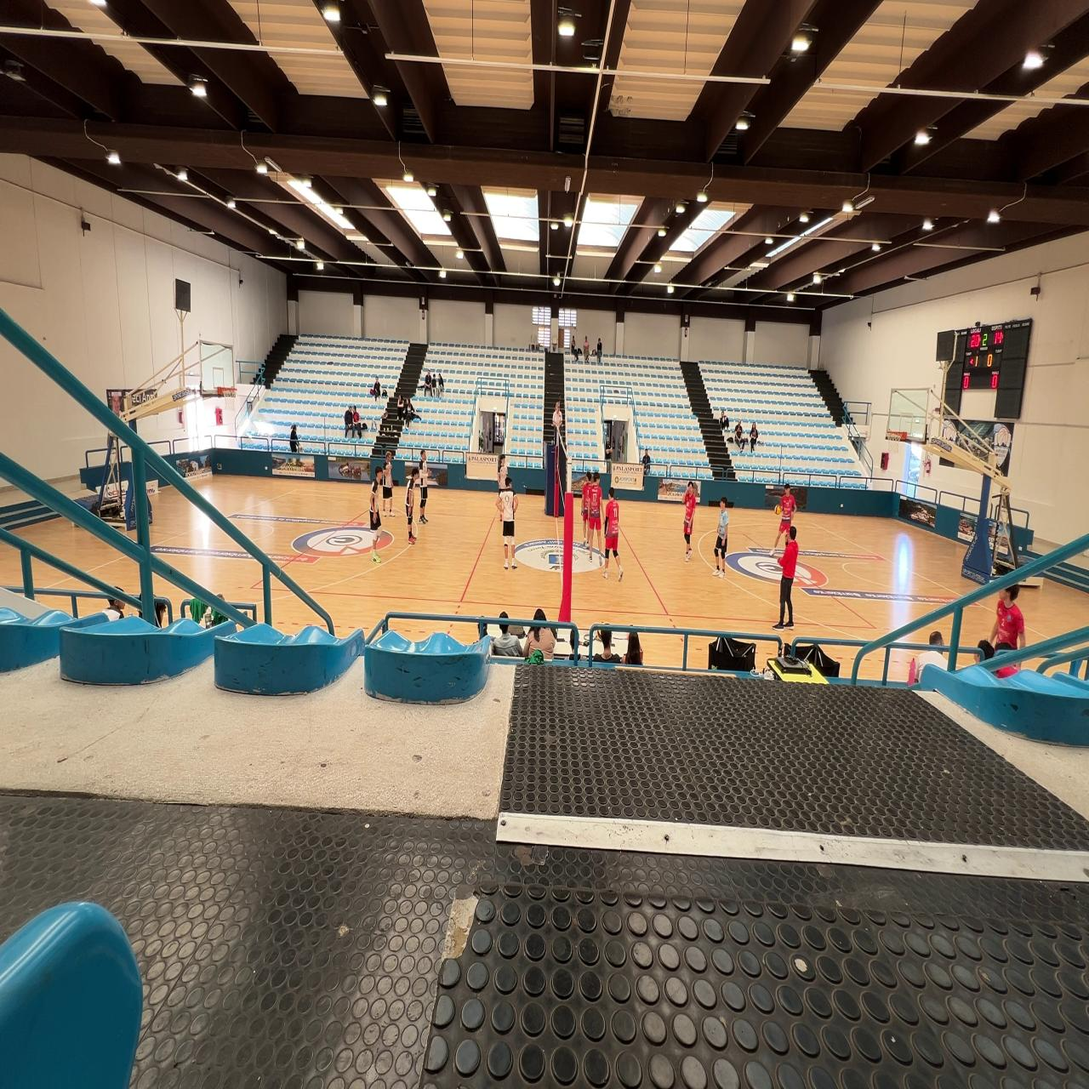ball: (775, 505, 781, 515)
